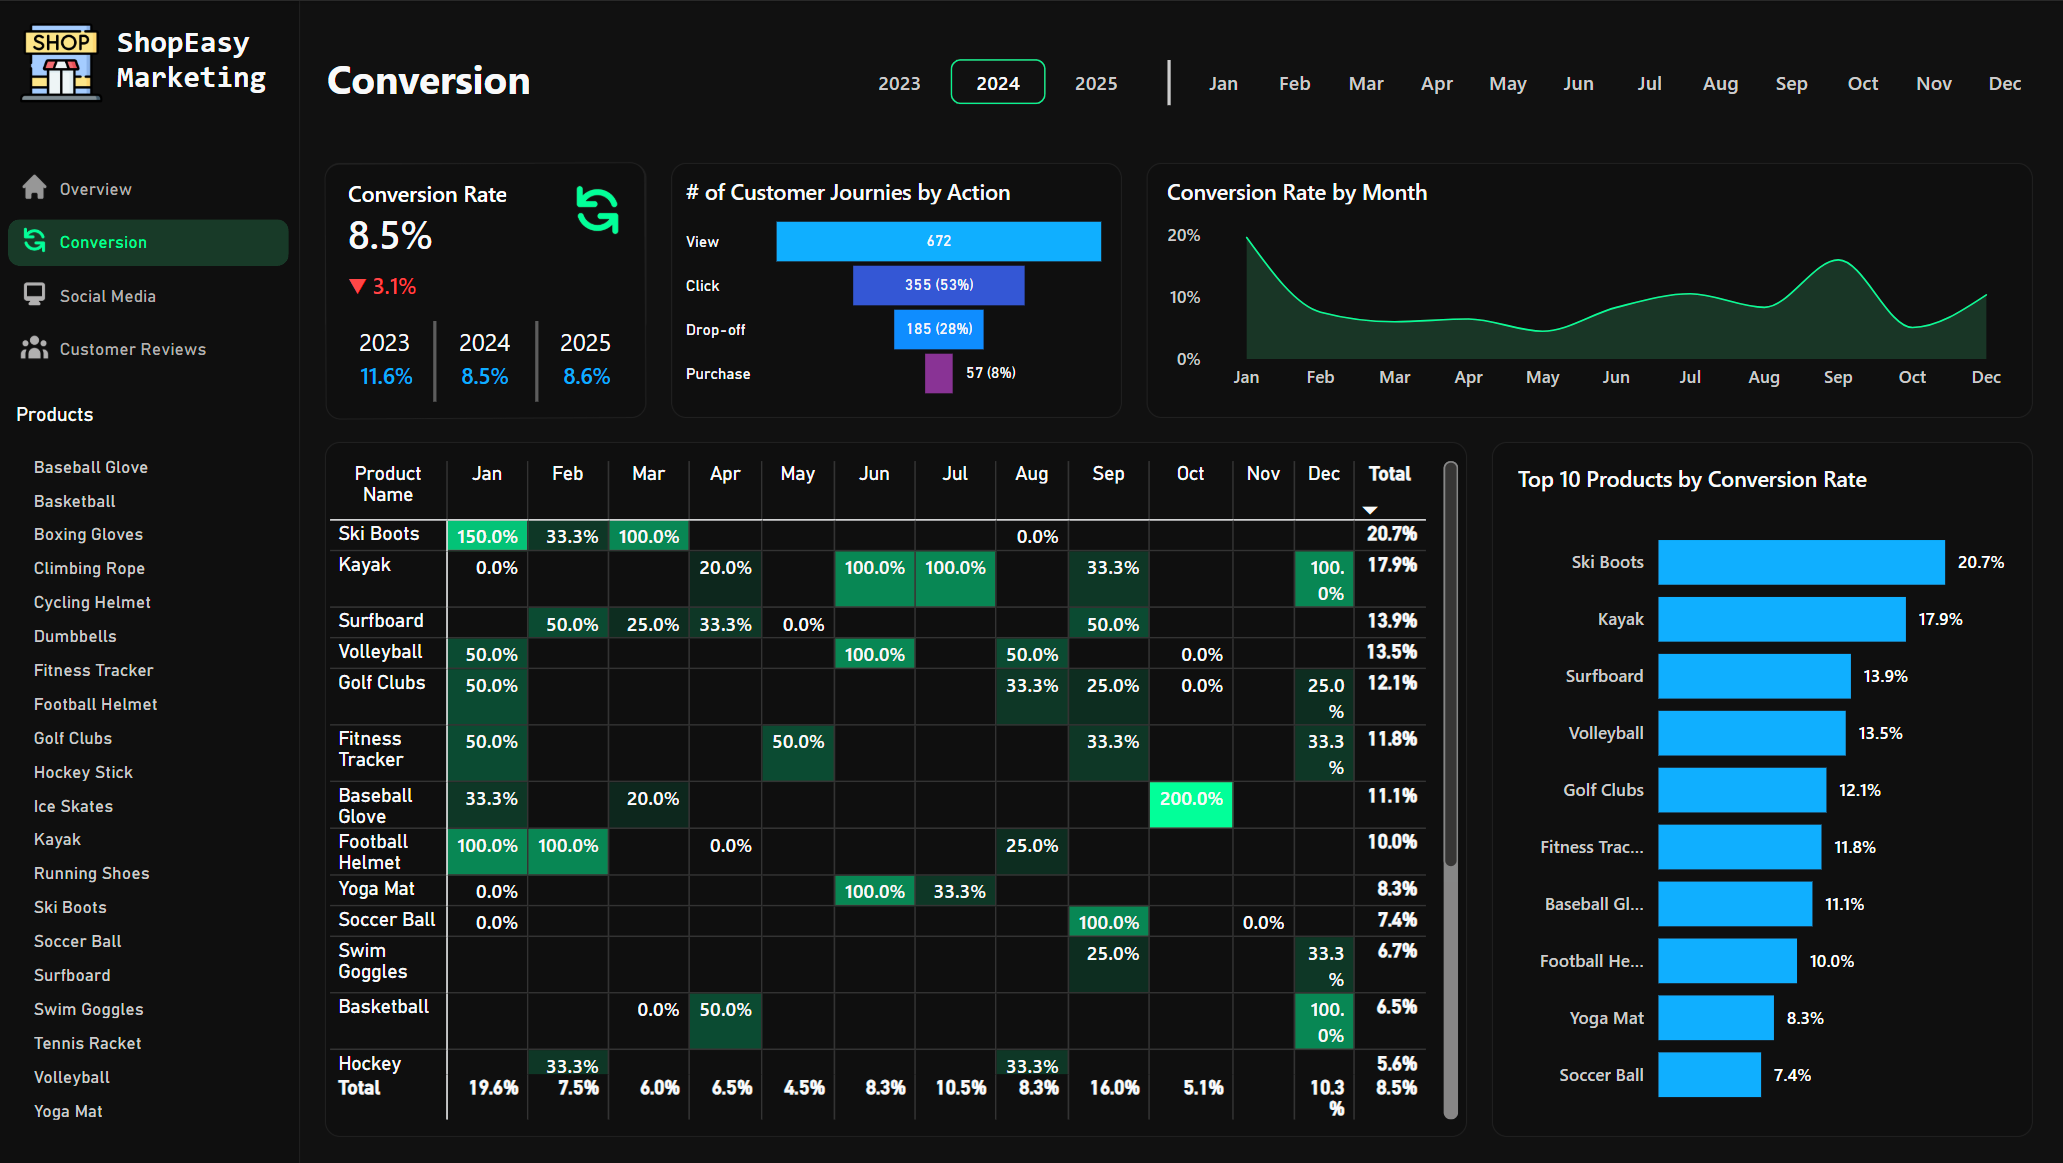

This screenshot's page, from the dashboard's own definition file:
{"tool":"powerbi","page":{"name":"Conversion","canvas":[1280,720],"ordinal":1},"visuals":[{"type":"lineChart","fields":{"Y":["_Calculations.Conversion Rate"],"Category":["Calendar.MonthNameShort"]},"box":[718.6,109.3,536,141.8],"z":0},{"type":"clusteredBarChart","title":"Top 10 Products by Conversion Rate","fields":{"Category":["DIM_products.ProductName"],"Y":["_Calculations.Conversion Rate"]},"box":[936.5,286.8,317.9,411.9],"z":1000},{"type":"pivotTable","fields":{"Values":["_Calculations.Conversion Rate"],"Rows":["DIM_products.ProductName"],"Columns":["Calendar.MonthNameShort"]},"box":[200.4,280.3,708.7,417.7],"z":2000},{"type":"funnel","title":"# of Customer Journies by Action","fields":{"Y":["_Calculations.Number of Customer Journeys"],"Category":["FACT_customer_journey.Action"]},"box":[421,109.3,272.2,141.8],"z":3000},{"type":"cardVisual","fields":{"Data":["_Calculations.Conversion Rate 2023"]},"box":[218.1,204.7,44.2,47.9],"z":4000},{"type":"cardVisual","fields":{"Data":["_Calculations.Conversion Rate 2024"]},"box":[277.7,204.7,47.9,47.9],"z":5000},{"type":"cardVisual","fields":{"Data":["_Calculations.Conversion Rate 2025"]},"box":[341,204.7,47.9,47.9],"z":6000},{"type":"textbox","box":[212.9,195.8,51.6,30.7],"z":7000},{"type":"textbox","box":[275.3,195.8,51.6,30.7],"z":8000},{"type":"textbox","box":[337.6,195.8,51.6,30.7],"z":9000},{"type":"shape","box":[257.7,198,24.6,50.4],"z":10000},{"type":"shape","box":[321,198,24.6,50.4],"z":11000},{"type":"cardVisual","fields":{"Data":["_Calculations.Conversion Rate"]},"box":[211.3,95.4,127,78.1],"z":12000},{"type":"cardVisual","fields":{"Data":["_Calculations.Diff Last Year Conversion"]},"box":[211.2,147.4,98.3,48.4],"z":13000},{"type":"advancedSlicerVisual","fields":{"Values":["DIM_products.ProductName"]},"box":[15.2,273.6,157.5,439],"z":14000},{"type":"textbox","box":[5.7,241.3,174.3,31.7],"z":15000},{"type":"pageNavigator","box":[5.6,102,174.2,131],"z":16000},{"type":"advancedSlicerVisual","fields":{"Values":["Calendar.Year"]},"box":[523.8,31.1,193.5,38.9],"z":18000},{"type":"advancedSlicerVisual","fields":{"Values":["Calendar.MonthNameShort"]},"box":[732.8,31.1,542.5,38.7],"z":19000},{"type":"shape","box":[694.7,36.7,60.8,28.3],"z":20000},{"type":"image","box":[7.8,7.1,60.7,62.8],"z":20001},{"type":"textbox","box":[68.1,9.5,112,57.8],"z":20002},{"type":"textbox","box":[198.4,26.4,299.5,47.6],"z":20003}]}

Visuals, with their boxes on the page's 1280x720 design canvas (x1, y1, x2, y2). These are canvas units, not pixel positions in the 2063x1163 screenshot, which may show the page scaled, cropped or inside an application window:
lineChart - _Calculations.Conversion Rate x Calendar.MonthNameShort: <region>719, 109, 1255, 251</region>
"Top 10 Products by Conversion Rate" clusteredBarChart: <region>936, 287, 1254, 699</region>
pivotTable - _Calculations.Conversion Rate x DIM_products.ProductName: <region>200, 280, 909, 698</region>
"# of Customer Journies by Action" funnel: <region>421, 109, 693, 251</region>
cardVisual - _Calculations.Conversion Rate 2023: <region>218, 205, 262, 253</region>
cardVisual - _Calculations.Conversion Rate 2024: <region>278, 205, 326, 253</region>
cardVisual - _Calculations.Conversion Rate 2025: <region>341, 205, 389, 253</region>
textbox: <region>213, 196, 264, 226</region>
textbox: <region>275, 196, 327, 226</region>
textbox: <region>338, 196, 389, 226</region>
shape: <region>258, 198, 282, 248</region>
shape: <region>321, 198, 346, 248</region>
cardVisual - _Calculations.Conversion Rate: <region>211, 95, 338, 174</region>
cardVisual - _Calculations.Diff Last Year Conversion: <region>211, 147, 310, 196</region>
advancedSlicerVisual - DIM_products.ProductName: <region>15, 274, 173, 713</region>
textbox: <region>6, 241, 180, 273</region>
pageNavigator: <region>6, 102, 180, 233</region>
advancedSlicerVisual - Calendar.Year: <region>524, 31, 717, 70</region>
advancedSlicerVisual - Calendar.MonthNameShort: <region>733, 31, 1275, 70</region>
shape: <region>695, 37, 756, 65</region>
image: <region>8, 7, 68, 70</region>
textbox: <region>68, 10, 180, 67</region>
textbox: <region>198, 26, 498, 74</region>
